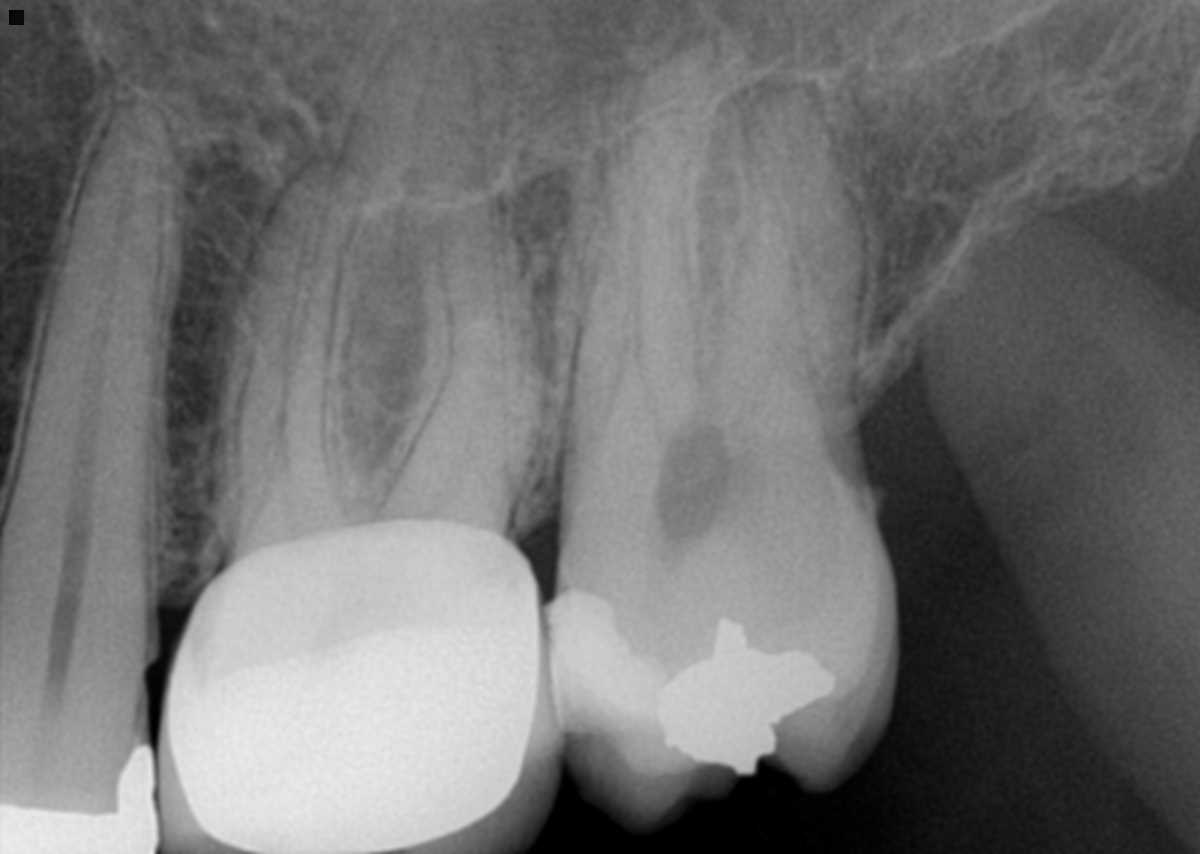Distal Canal: (713, 295, 792, 435)
Distal Root: (698, 86, 868, 437), (376, 176, 541, 535)
Main Canal: (56, 139, 138, 577)
Main Root: (0, 96, 190, 598)
Mesial Root: (215, 156, 370, 554), (550, 124, 709, 491)
Palatal Canal: (402, 42, 431, 208)
Palatal Root: (239, 2, 507, 590), (560, 38, 843, 527)
